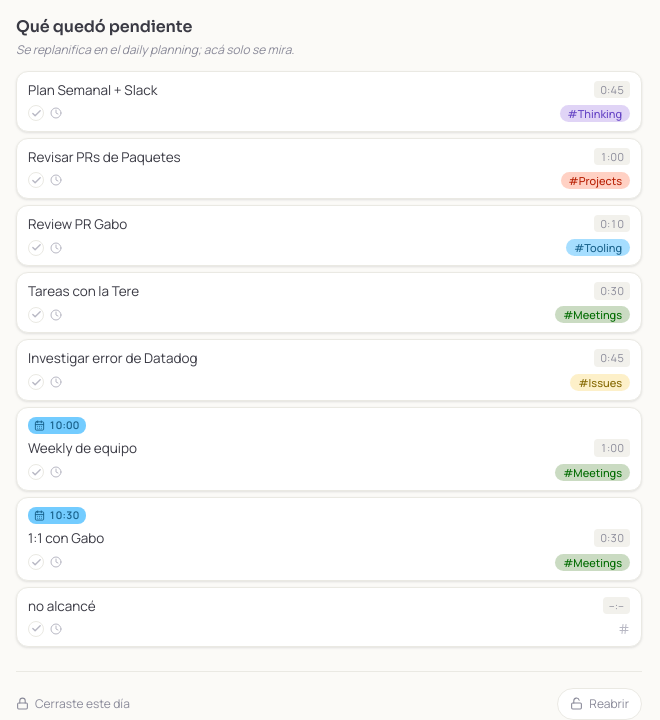
Test case: DailyShutdownView › un día ya cerrado ofrece reabrirlo en vez de volver a cerrarlo
(page scrolled)
Expected: the text "Cerraste este día" is shown, [16,695,130,713]
Expected: the button "Cerrar el día" is not shown
Click the button "Reabrir": (600, 704) [557,688,642,719]
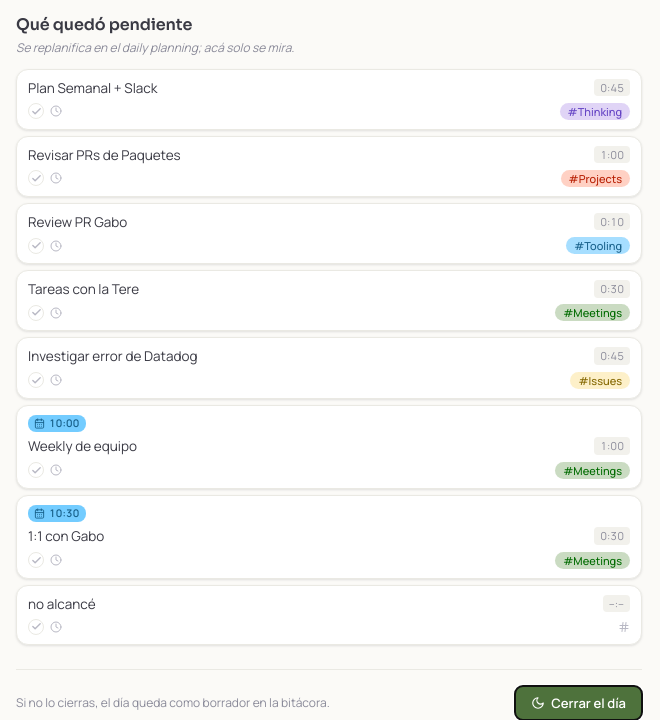
Expected: the button "Cerrar el día" is shown, [515,686,642,719]
